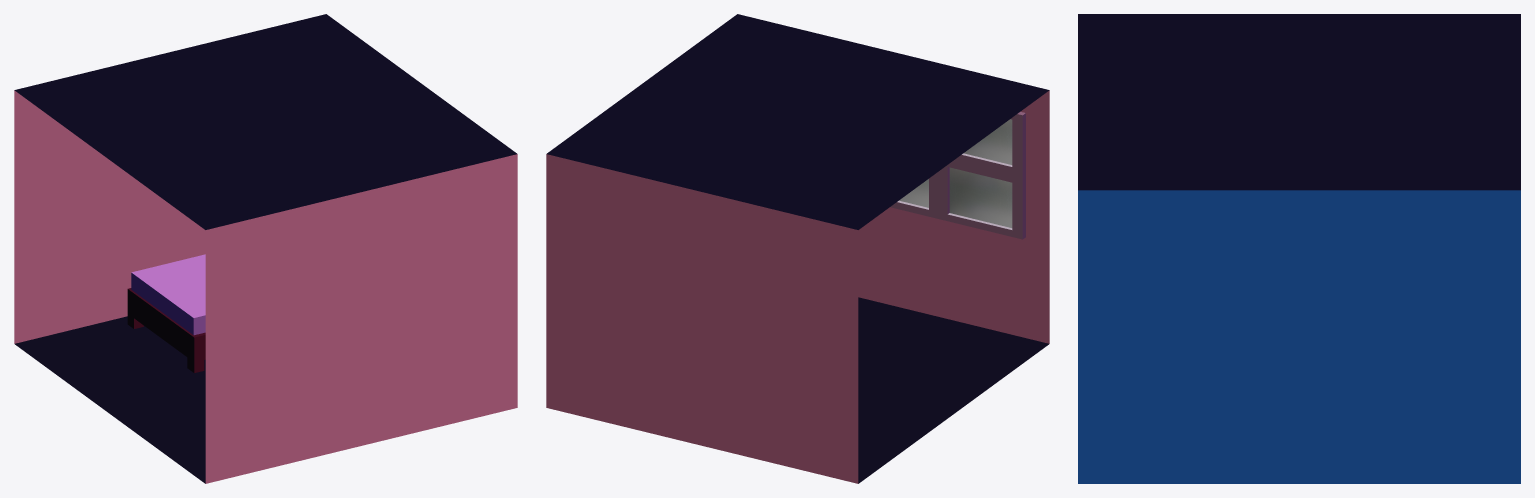
File: cuarto2.obj
3 views of the same model, side by side, from view 1: azimuth 30°, elevation 25°; view 2: azimuth 150°, elevation 25°; view 3: azimuth 270°, elevation 25° (orthographic). The views are drawn at different scales.
Visible parts, largest first — view 1: Cubo.004, Cubo.005; view 2: Cubo.004, Cubo; view 3: Cubo.004.
Part boxes in pixels (x1,y1,x2,y2): Cubo.004: (14,14,517,483); Cubo.005: (127,254,205,373); Cubo.004: (546,14,1049,483); Cubo: (890,111,1025,239); Cubo.004: (1078,14,1520,483).
Size of the model in its own units: 5.43 by 4.22 by 5.77.
Materials: 3 (3 with a texture image).
